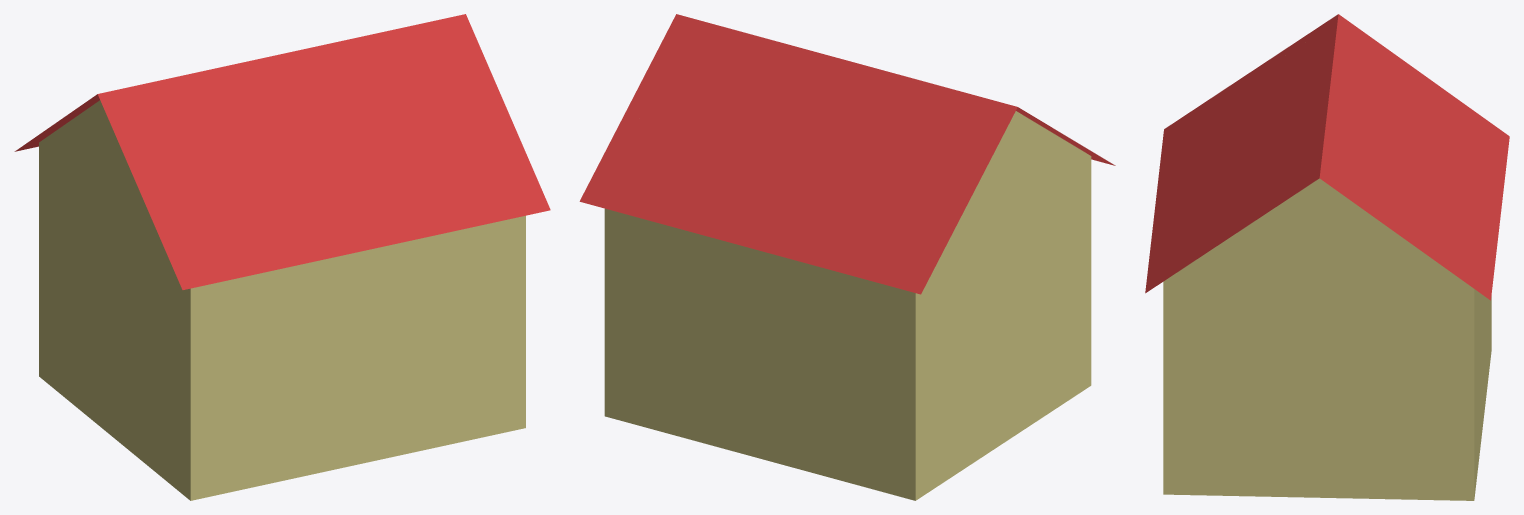
3 renders of one model, left to right at view 1: azimuth 30°, elevation 25°; view 2: azimuth 150°, elevation 25°; view 3: azimuth 270°, elevation 25°, orthographic. The views are drawn at different scales.
Size of the model in its own units: 11.63 by 10.45 by 10.34.
